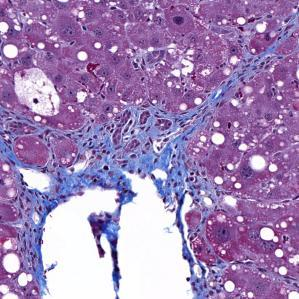fibrosis: (71, 106, 191, 174), (211, 53, 275, 99)
